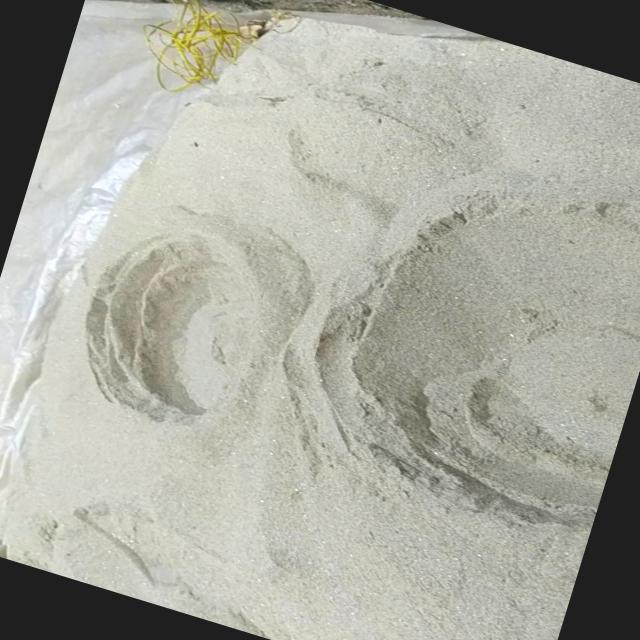C20: (313, 194, 640, 526), (85, 238, 255, 422)
